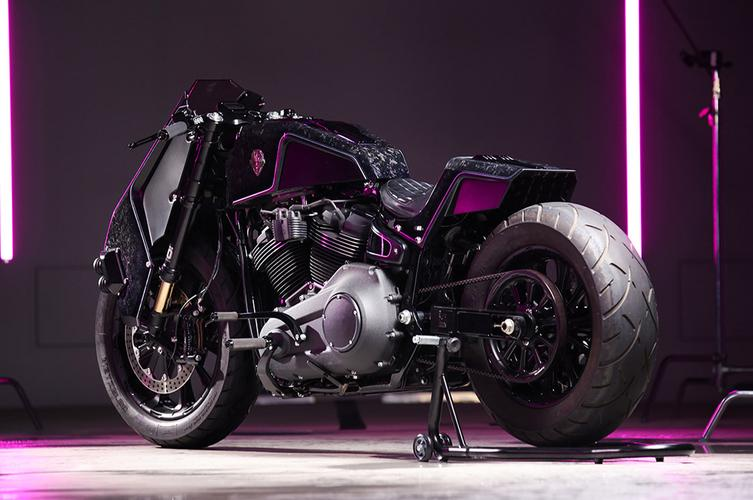摩托车: (86, 66, 670, 465)
